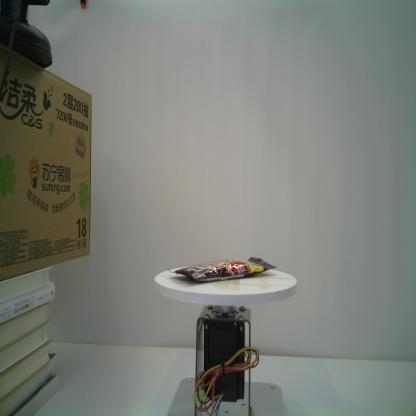Chocolate: (168, 256, 278, 283)
